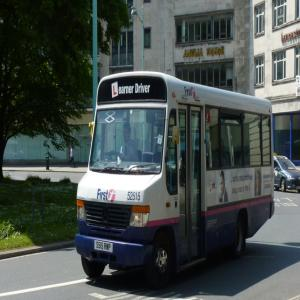Vehicle-registration-plate: (95, 242, 113, 254)
